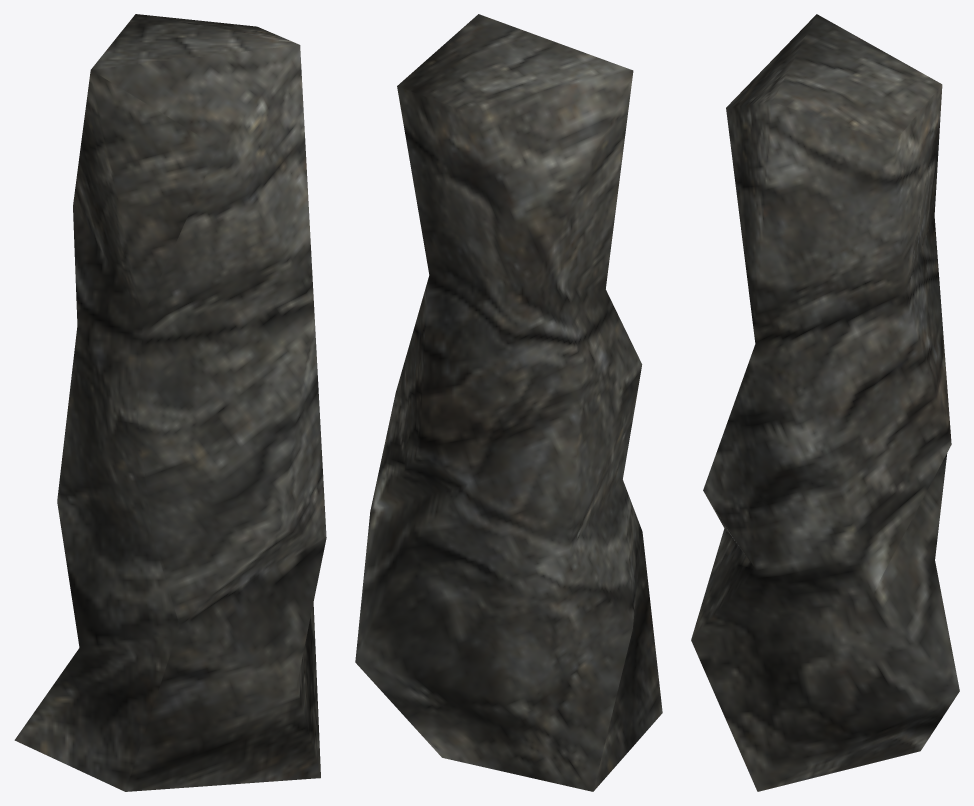
File: Stal9C_LOD1.fbx
The picture shows the model from 3 angles, left to right: view 1: azimuth 30°, elevation 25°; view 2: azimuth 150°, elevation 25°; view 3: azimuth 270°, elevation 25°; orthographic projection. The views are drawn at different scales.
Visible parts, largest first — view 1: polySurface17; view 2: polySurface17; view 3: polySurface17.
Part boxes in pixels (left/top/right/bottom): polySurface17: left=14, top=14, right=326, bottom=791; polySurface17: left=355, top=14, right=662, bottom=791; polySurface17: left=691, top=14, right=959, bottom=791.
Size of the model in its own units: 2.5 by 6.63 by 2.35.
